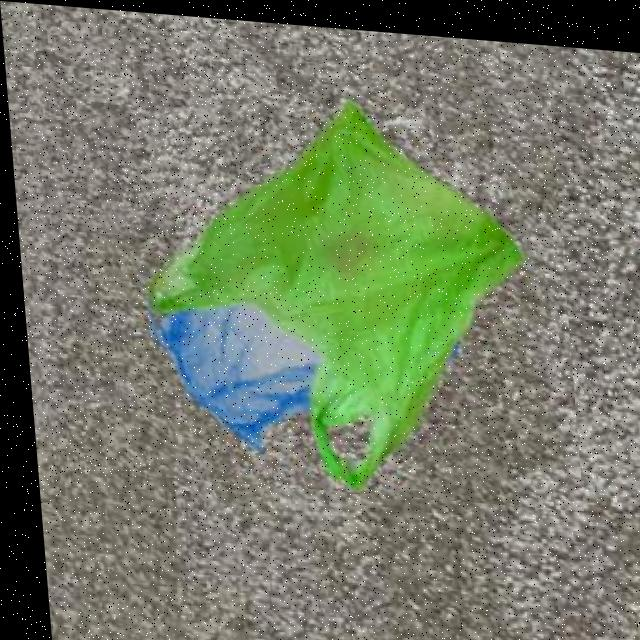litter: (85, 21, 576, 501)
